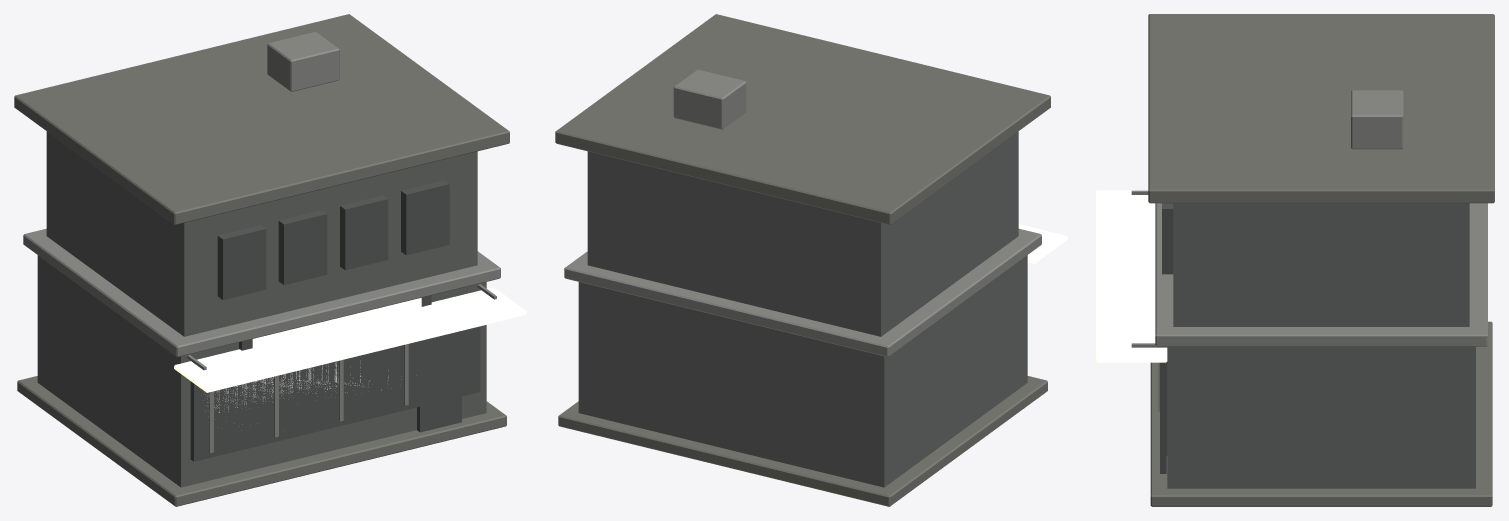
File: shop_cafe.glb
3 views of the same model, side by side, from view 1: azimuth 30°, elevation 25°; view 2: azimuth 150°, elevation 25°; view 3: azimuth 270°, elevation 25° (orthographic). The views are drawn at different scales.
Parts seen in each view (by area): view 1: shop_cafe_Concrete@utility, shop_cafe_Graphite@utility, shop_cafe_DarkAlloy@utility, shop_cafe_Steel@utility, shop_cafe_WarmGlass; view 2: shop_cafe_Graphite@utility, shop_cafe_Concrete@utility, shop_cafe_Steel@utility, shop_cafe_WarmGlass; view 3: shop_cafe_Graphite@utility, shop_cafe_Concrete@utility, shop_cafe_Steel@utility, shop_cafe_WarmGlass, shop_cafe_DarkAlloy@utility.
Part boxes in pixels (bbox=[...]): shop_cafe_Concrete@utility: bbox=[14, 14, 509, 506]; shop_cafe_Graphite@utility: bbox=[37, 131, 486, 487]; shop_cafe_DarkAlloy@utility: bbox=[190, 180, 480, 461]; shop_cafe_Steel@utility: bbox=[23, 31, 500, 453]; shop_cafe_WarmGlass: bbox=[174, 287, 526, 412]; shop_cafe_Graphite@utility: bbox=[578, 131, 1027, 487]; shop_cafe_Concrete@utility: bbox=[555, 14, 1050, 506]; shop_cafe_Steel@utility: bbox=[564, 69, 1041, 357]; shop_cafe_WarmGlass: bbox=[1018, 224, 1067, 263]; shop_cafe_Graphite@utility: bbox=[1167, 203, 1475, 488]; shop_cafe_Concrete@utility: bbox=[1148, 14, 1494, 506]; shop_cafe_Steel@utility: bbox=[1131, 90, 1487, 411]; shop_cafe_WarmGlass: bbox=[1096, 190, 1167, 362]; shop_cafe_DarkAlloy@utility: bbox=[1160, 203, 1173, 473].
Size of the model in its own units: 8.8 by 8.2 by 8.4.
